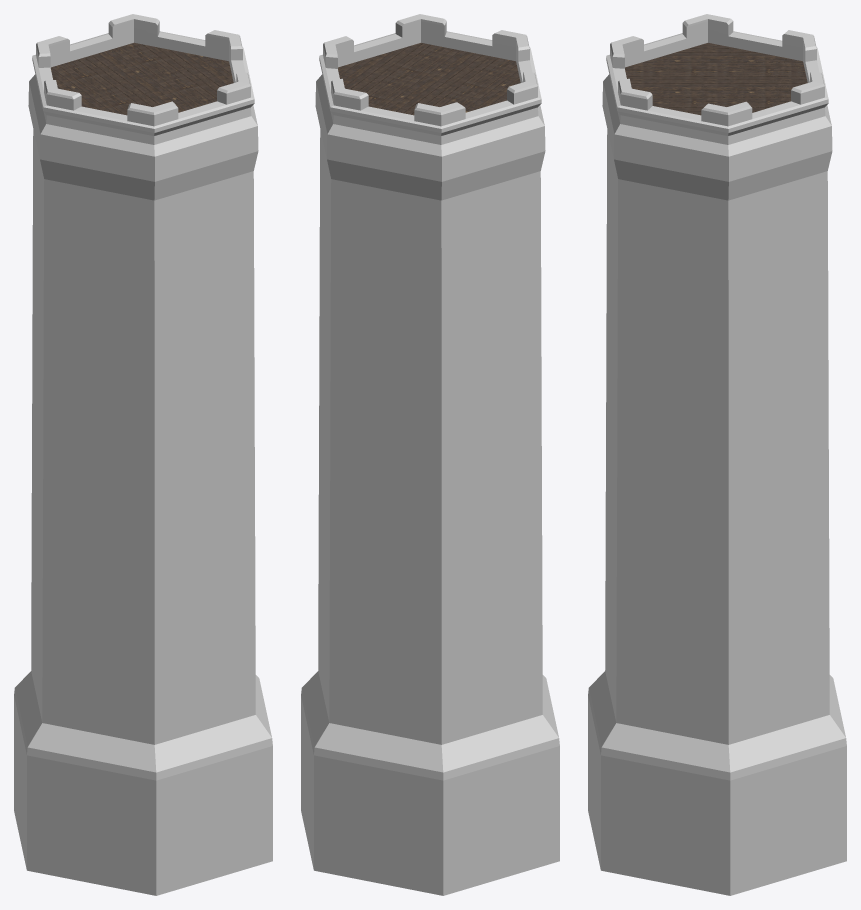
File: Tower-3.fbx
3 renders of one model, left to right at view 1: azimuth 30°, elevation 25°; view 2: azimuth 150°, elevation 25°; view 3: azimuth 270°, elevation 25°, orthographic.
Visible parts, largest first — view 1: Veza6HranTypB; view 2: Veza6HranTypB; view 3: Veza6HranTypB.
Part boxes in pixels (<box>): Veza6HranTypB: <box>14,14,272,895</box>; Veza6HranTypB: <box>301,14,559,895</box>; Veza6HranTypB: <box>588,14,846,895</box>.
Bounding box in the file's own units: 1494 × 4484 × 1362.
